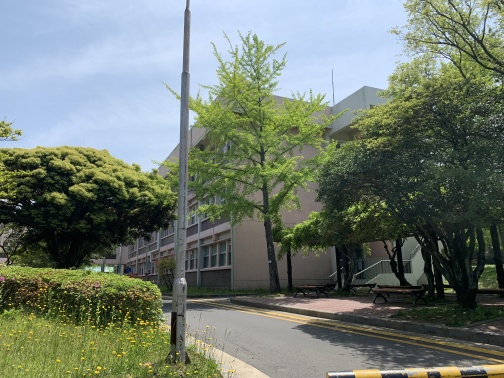College Of Education: (108, 81, 435, 311)
